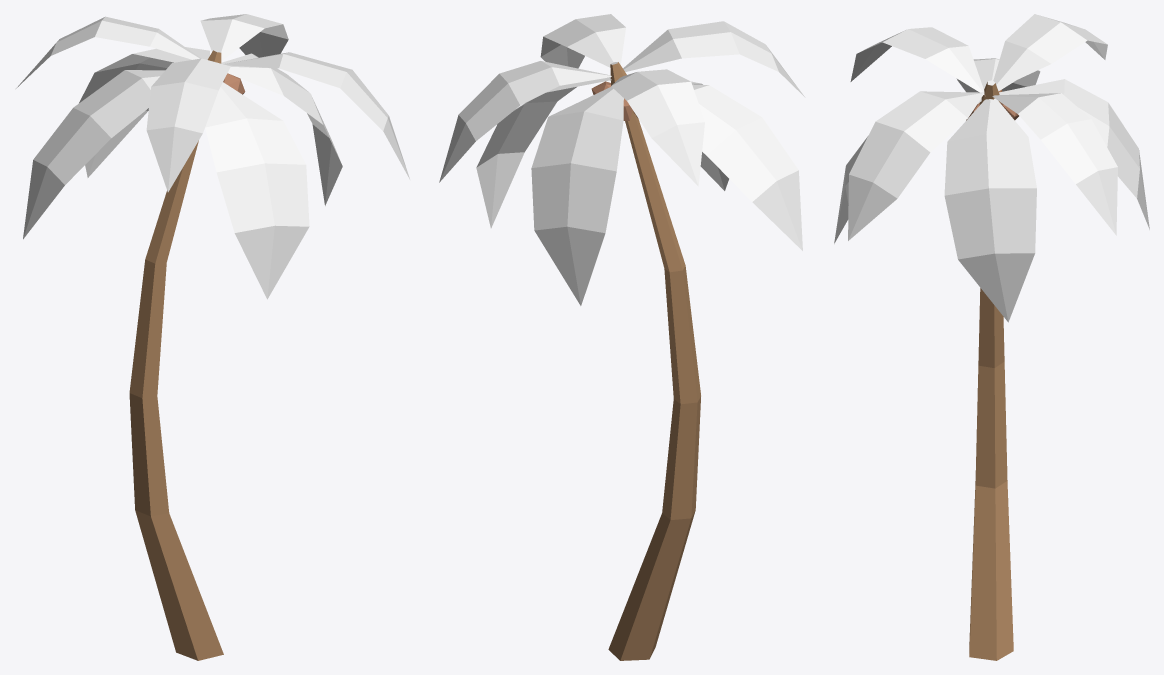
The model's file is Palm_Tree_Coconut_OneSided_m_Snow_03.fbx.
3 views of the same model, side by side, from view 1: azimuth 30°, elevation 25°; view 2: azimuth 150°, elevation 25°; view 3: azimuth 270°, elevation 25° (orthographic). The views are drawn at different scales.
Parts seen in each view (by area): view 1: Palm_Tree_Coconut_OneSided_m_Snow_03; view 2: Palm_Tree_Coconut_OneSided_m_Snow_03; view 3: Palm_Tree_Coconut_OneSided_m_Snow_03.
Boxes of the visible parts, left/top/right/bottom form: Palm_Tree_Coconut_OneSided_m_Snow_03: left=16, top=14, right=409, bottom=660; Palm_Tree_Coconut_OneSided_m_Snow_03: left=439, top=14, right=805, bottom=660; Palm_Tree_Coconut_OneSided_m_Snow_03: left=834, top=14, right=1149, bottom=660.
Bounding box in the file's own units: 301 × 563 × 269.
